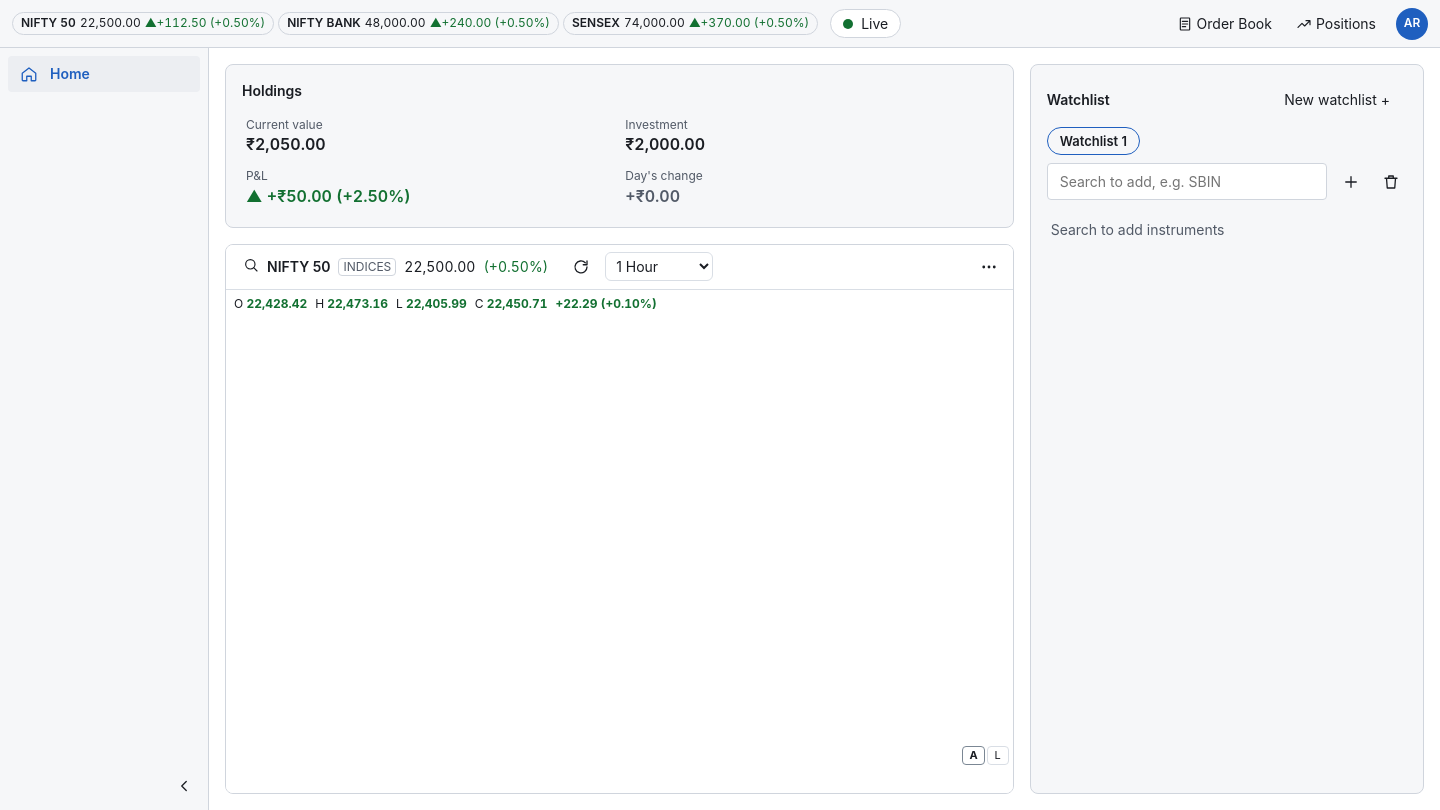
Test case: FR-SHELL-005 status indicator › carry-forward: a refused reconnect shows the refusal and never claims success
Click the button "Live".
click(866, 24)  # box [830,9,901,38]
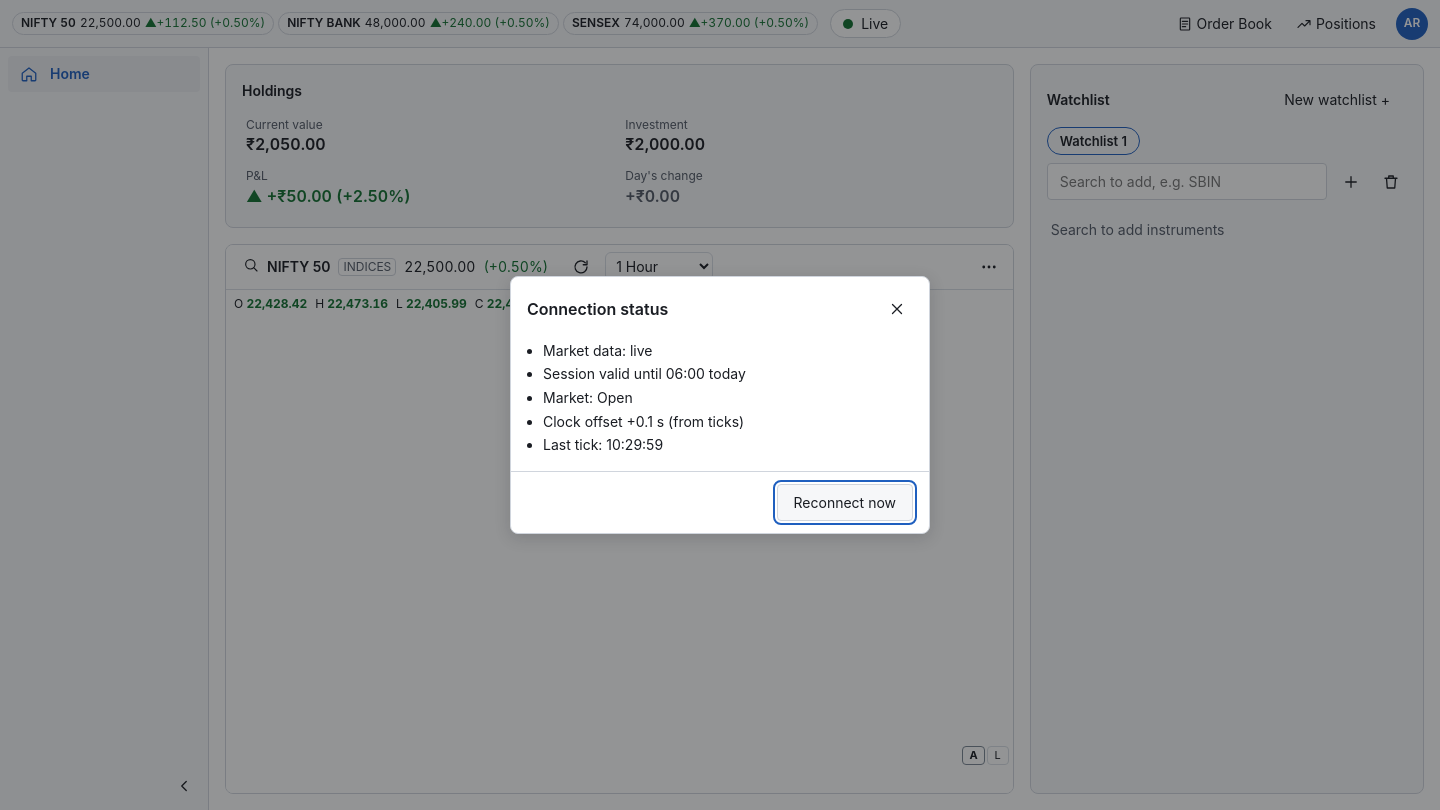
Click the button "Reconnect now".
click(845, 502)  # box [776,484,913,521]
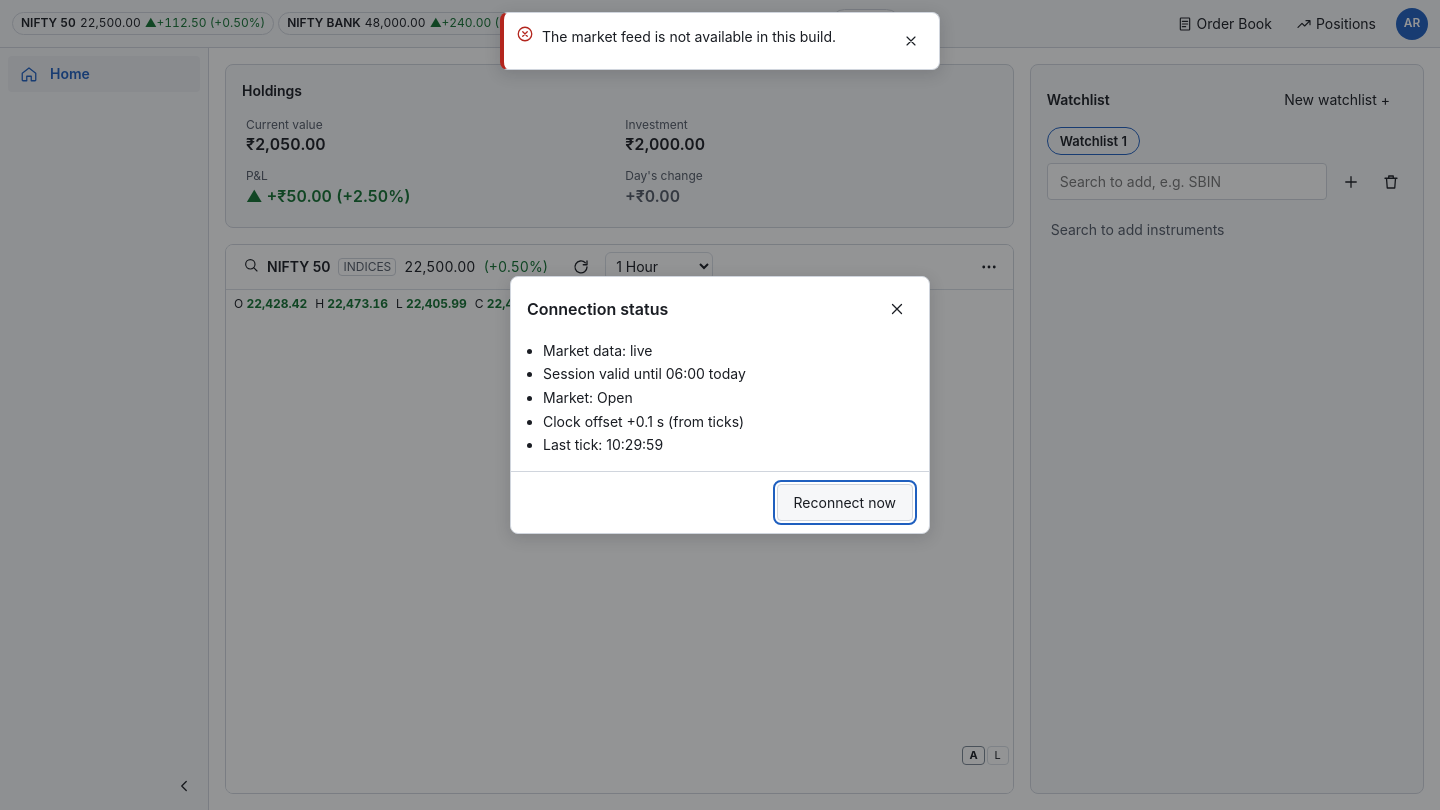
Now the text "The market feed is not available in this build." is shown, box [542,25,887,47]
